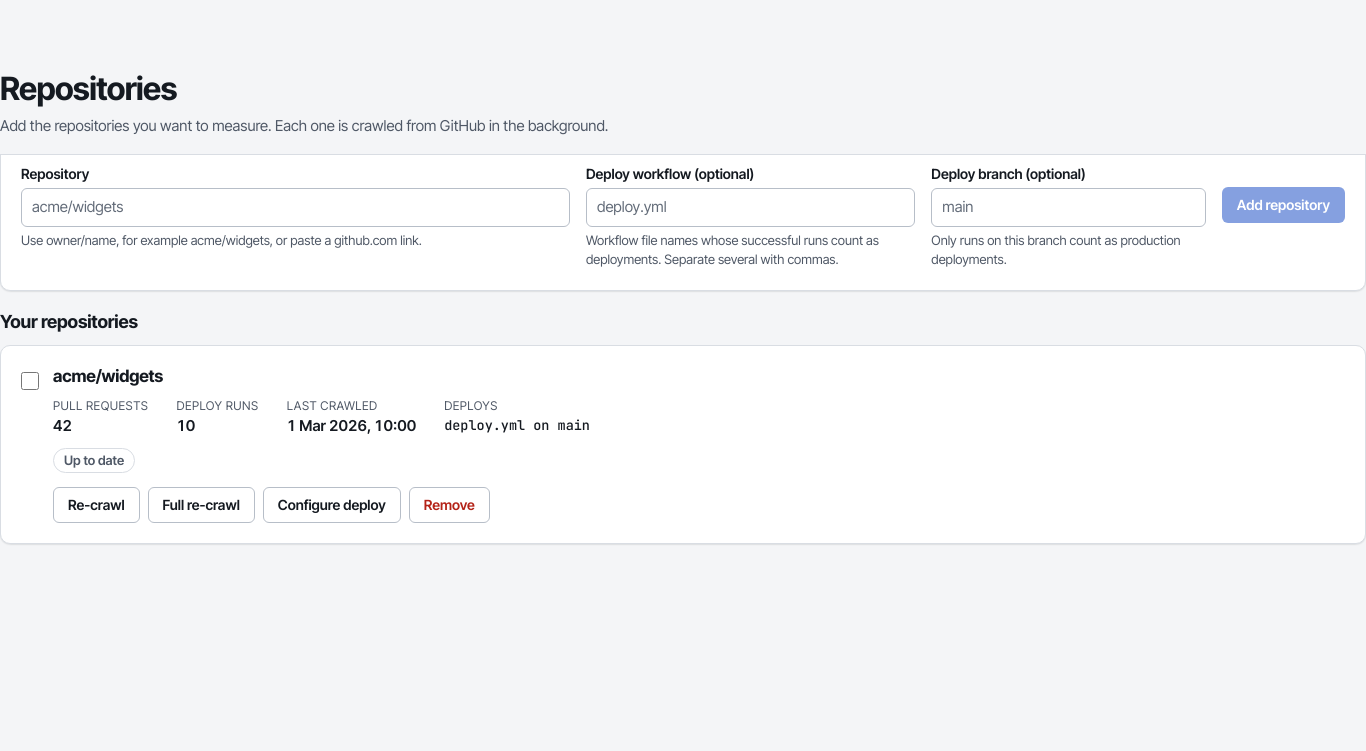
ReposPage issue labels › leaves the label panel out when the repository has no issues
Step 1. Click the button "Configure deploy" → point(332, 505), box 263,487 -> 401,523
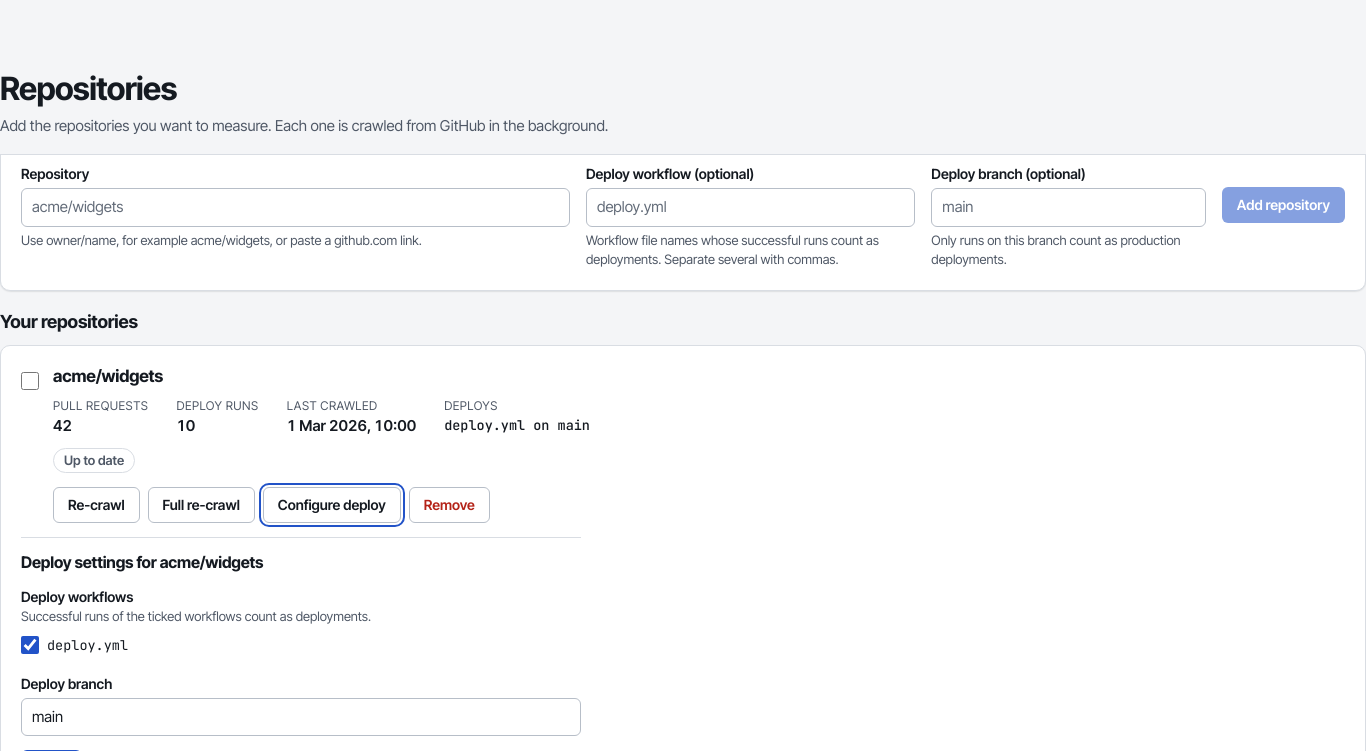
Check: the checkbox labelled "deploy.yml" is shown, box 21,636 -> 39,654
